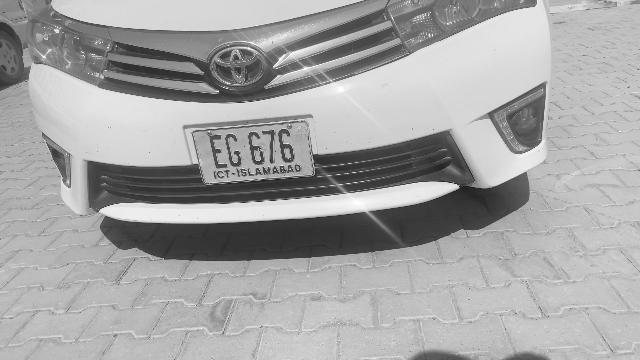Number: (201, 127, 299, 172)
